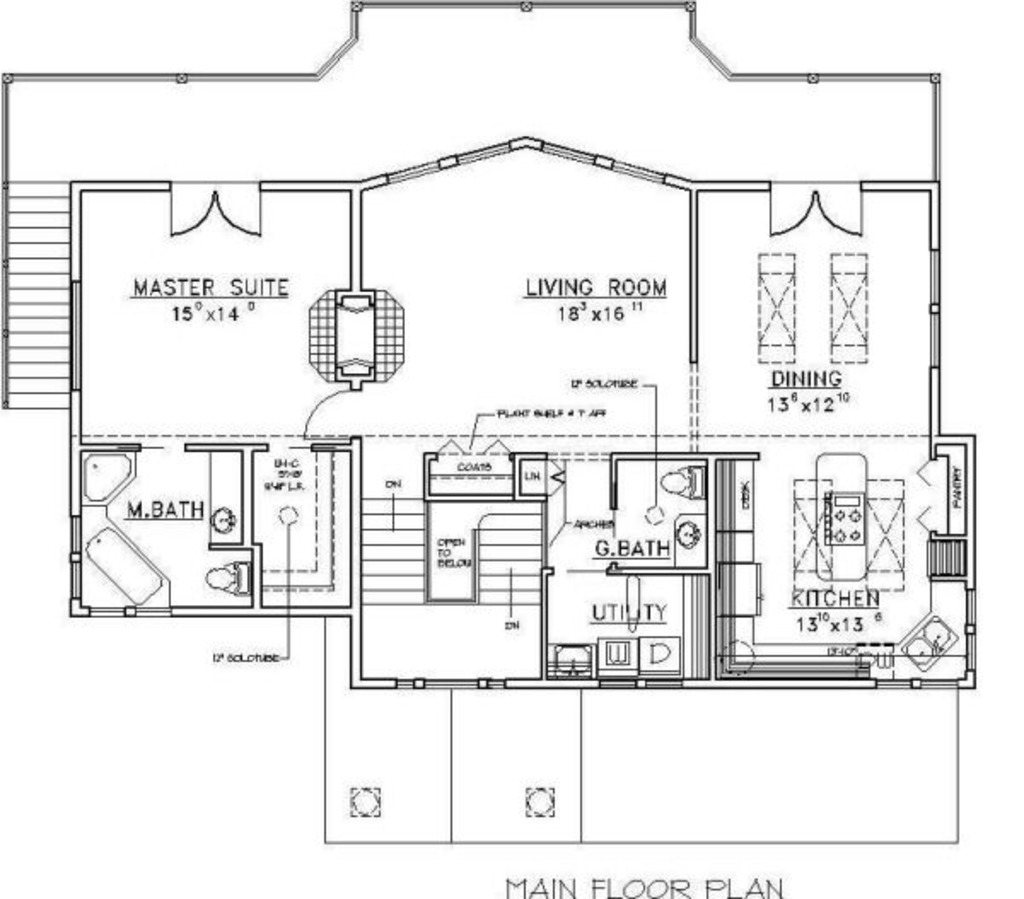door: (163, 177, 264, 238), (767, 185, 870, 237)
kitchen_bar: (785, 448, 914, 595)
large_sink: (200, 562, 266, 612), (658, 460, 712, 510)
small_sink: (670, 517, 718, 564), (206, 496, 243, 544)
stairs: (360, 496, 551, 621), (1, 173, 77, 422)
tub: (75, 512, 177, 604)
twin_sink: (884, 611, 962, 678)
window: (375, 152, 452, 185), (536, 138, 596, 170), (606, 156, 667, 185), (451, 138, 510, 167)
